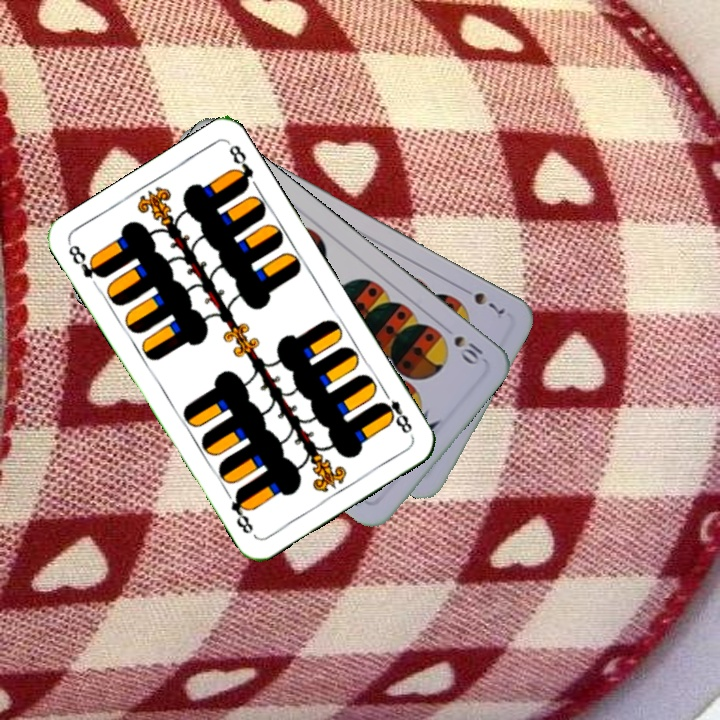E8: (375, 385, 415, 437), (64, 240, 108, 281)
S10: (449, 331, 487, 369)
S7: (456, 282, 507, 317)
